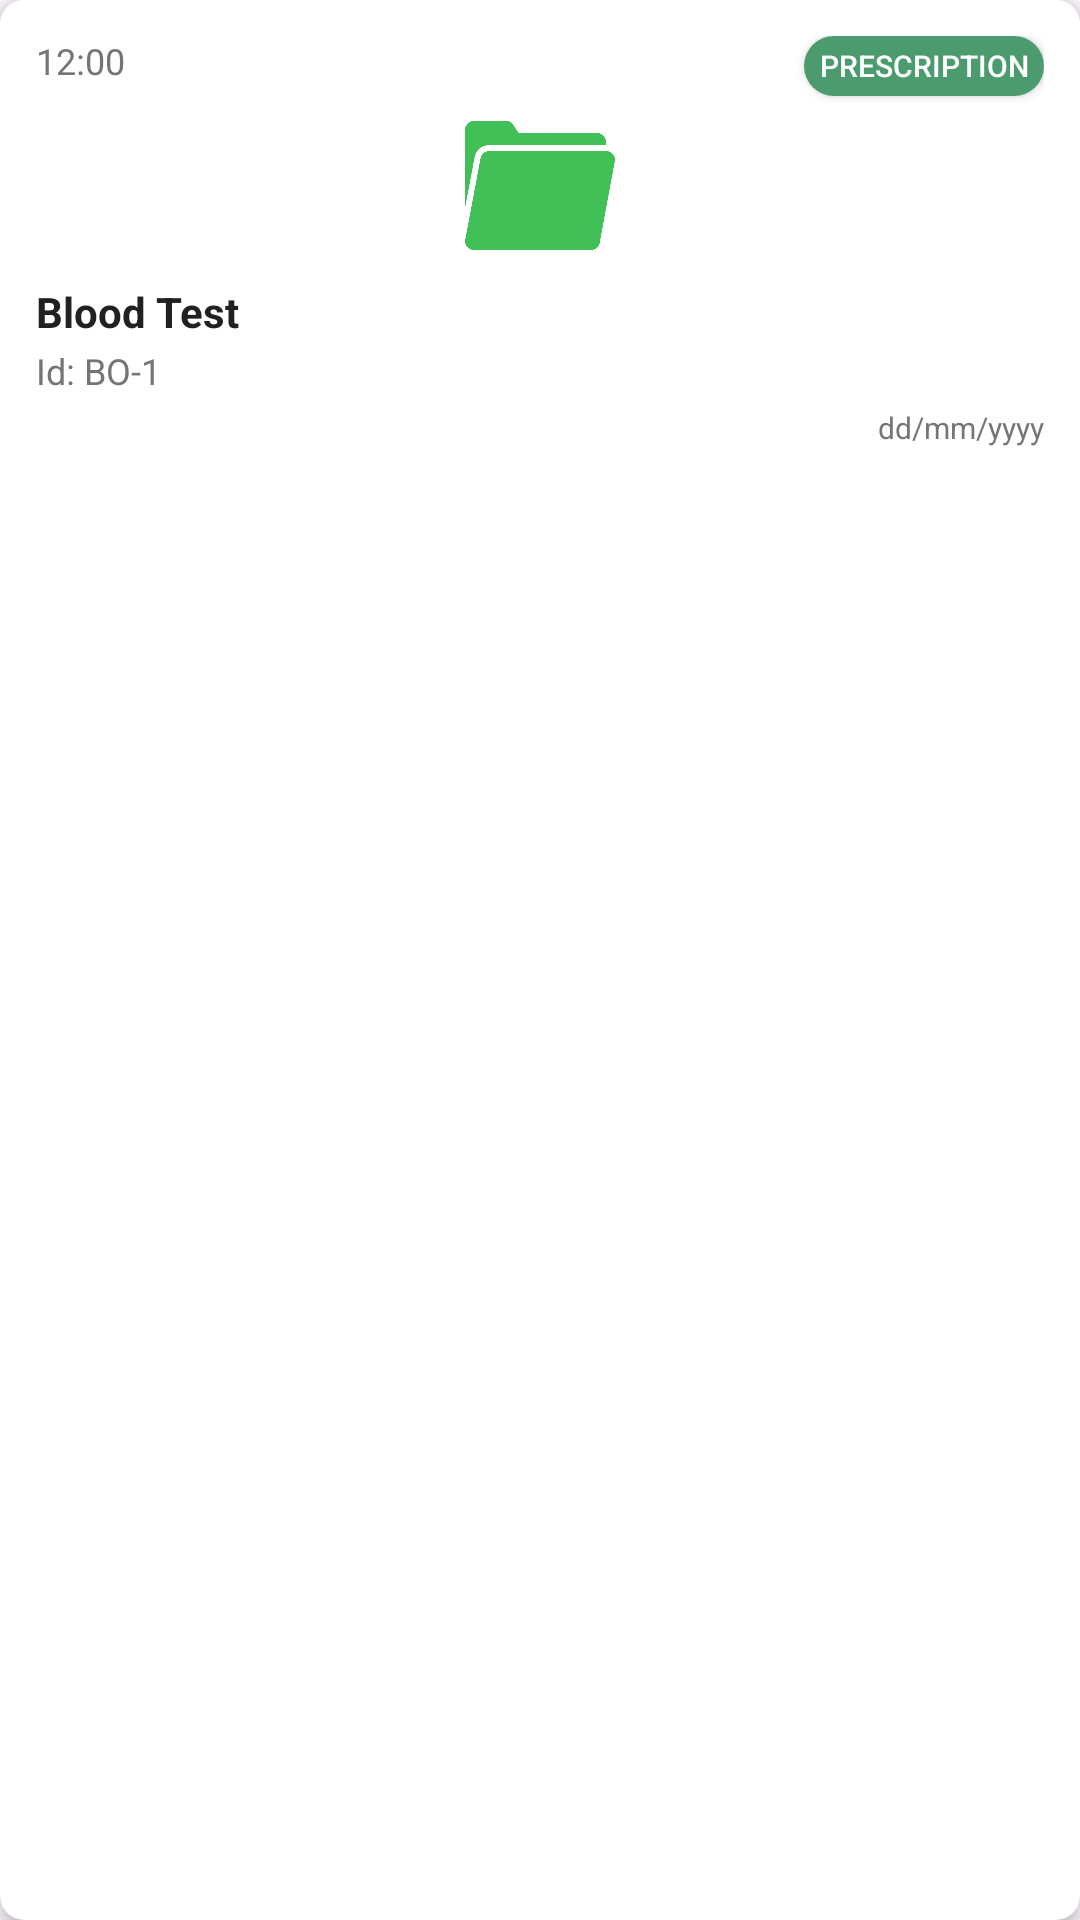

Icon click points for this 1080*1920 phone screenshot, format point (x, y):
folder report: point (540, 185)
